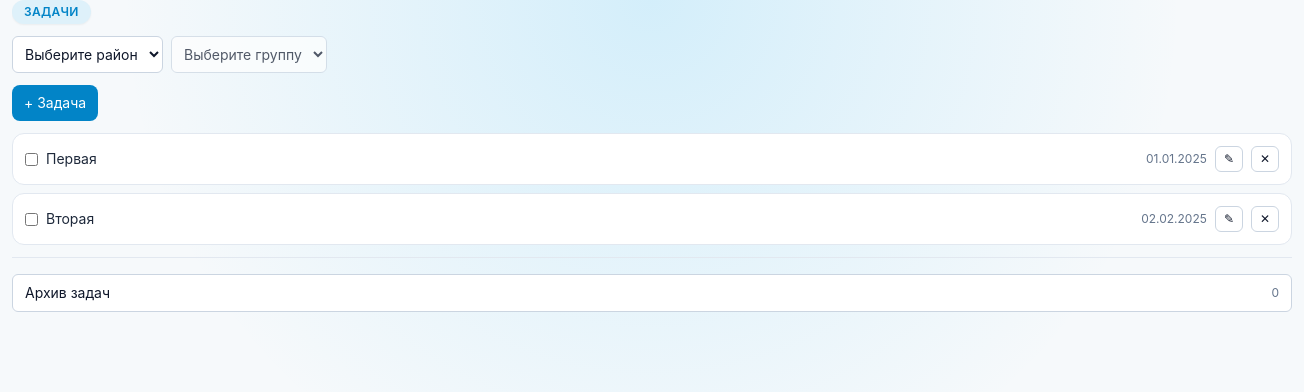
Test: TasksTab CRUD operations › Delete: removes task from DOM
Click the 2nd button "✕". click: (1265, 219)
box: [1251,206,1279,232]
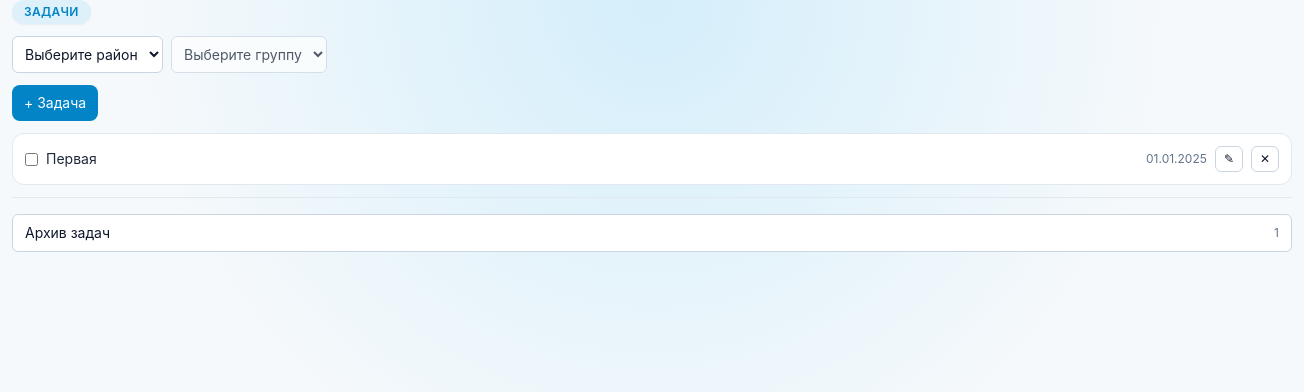
Now the button "Вторая" is gone
